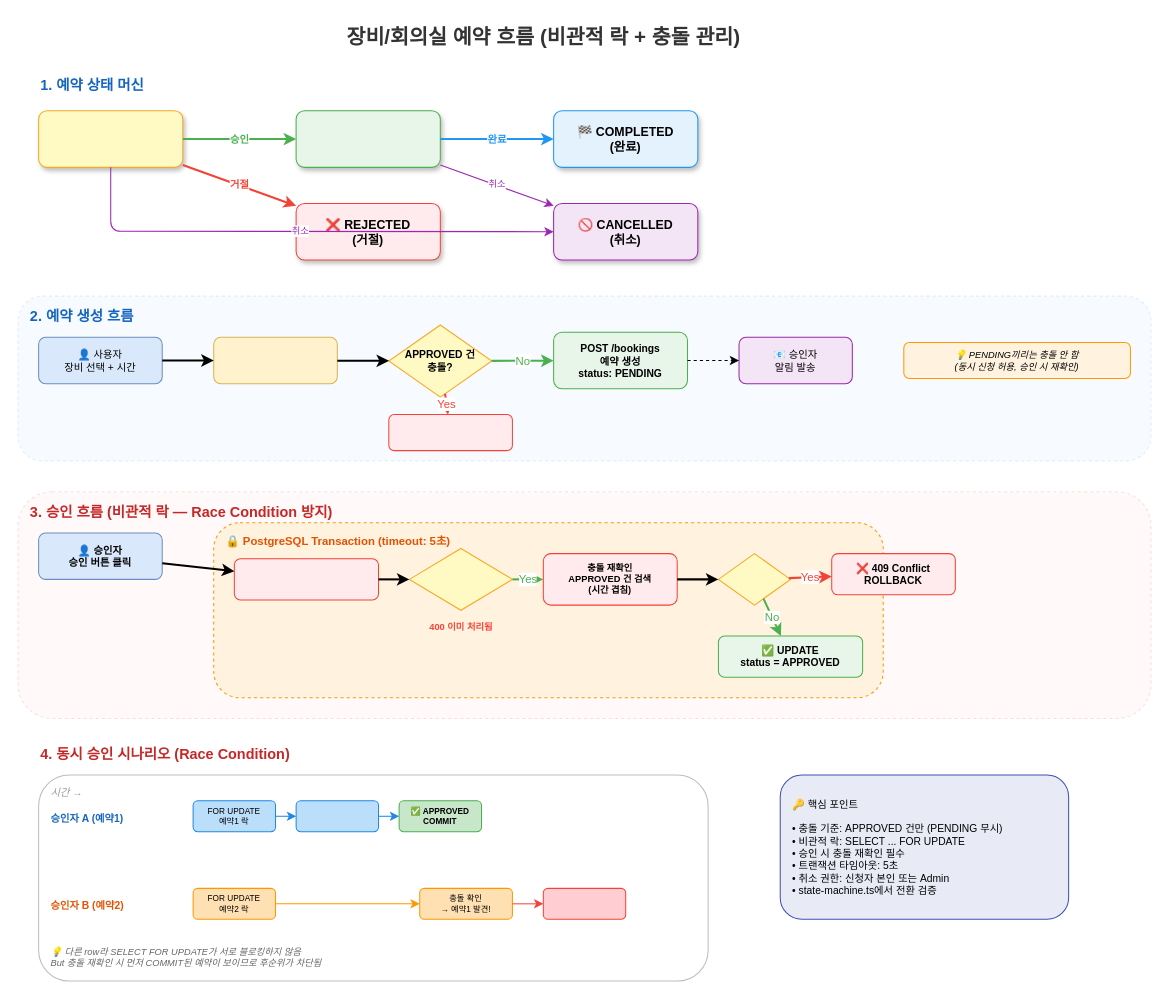
Image size: 1169x999. Some labels were removed from this diagram. Here are the shapes that lost their labels. From the top down, the centre of each, then its label:
At point (111, 140): "⏳ PENDING (대기 중)".
At point (369, 140): "✅ APPROVED (승인)".
At point (275, 360): "충돌 확인 API GET /conflicts".
At point (450, 432): "❌ 충돌 안내 시간 변경 필요".
At point (306, 579): "SELECT ... FOR UPDATE 비관적 락 획득".
At point (460, 578): "상태 확인 PENDING인지?".
At point (754, 579): "충돌?".
At point (337, 816): "충돌 확인 → 없음".
At point (584, 903): "❌ 409 ROLLBACK".
